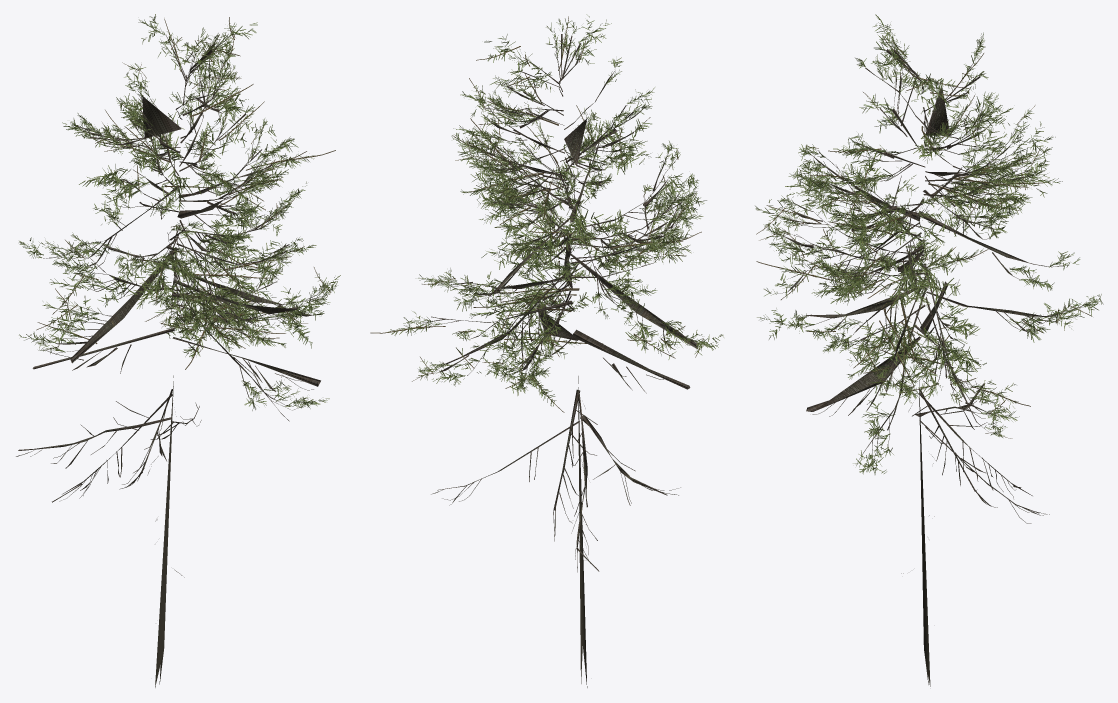
Rendered from fir_tree_01_c.glb.
3 views of the same model, side by side, from view 1: azimuth 30°, elevation 25°; view 2: azimuth 150°, elevation 25°; view 3: azimuth 270°, elevation 25° (orthographic). The views are drawn at different scales.
Visible parts, largest first — view 1: fir_tree_01_c_LOD0; view 2: fir_tree_01_c_LOD0; view 3: fir_tree_01_c_LOD0.
Boxes of the visible parts, x1=… form: fir_tree_01_c_LOD0: x1=16, y1=14, x2=340, y2=687; fir_tree_01_c_LOD0: x1=370, y1=14, x2=723, y2=687; fir_tree_01_c_LOD0: x1=755, y1=14, x2=1103, y2=686.
Bounding box in the file's own units: 6.32 × 12.71 × 5.97.
Materials: 4 (4 with a texture image).
